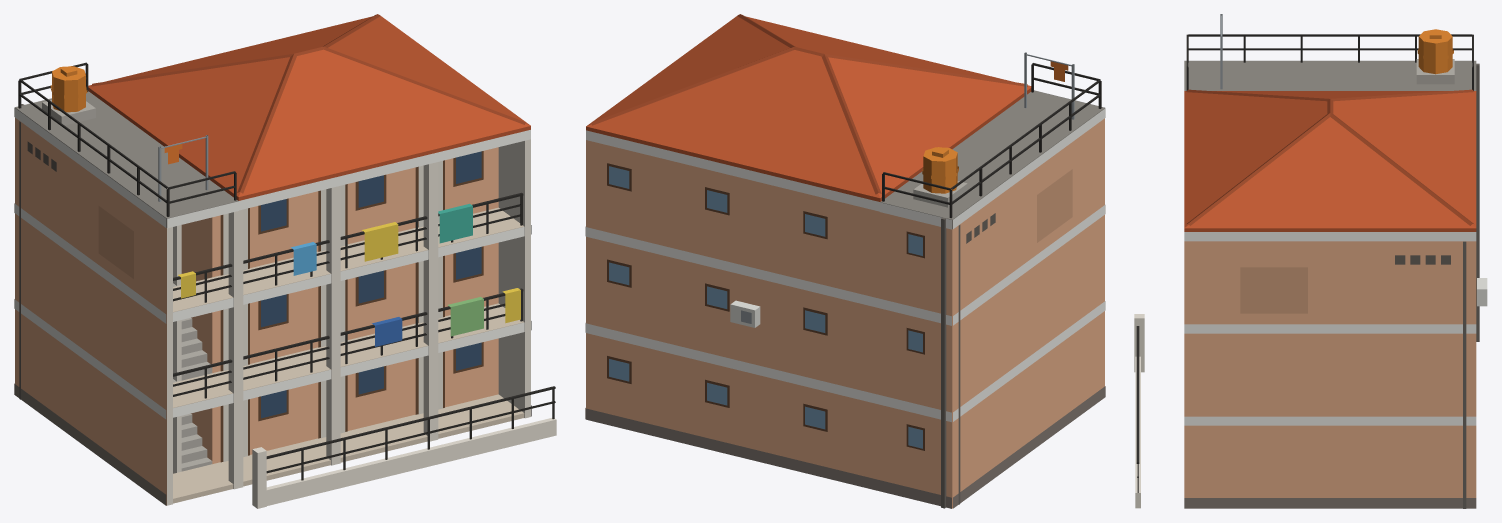
File: kos_02.glb
3 views of the same model, side by side, from view 1: azimuth 30°, elevation 25°; view 2: azimuth 150°, elevation 25°; view 3: azimuth 270°, elevation 25° (orthographic). The views are drawn at different scales.
Parts seen in each view (by area): view 1: kos_02; view 2: kos_02; view 3: kos_02.
Boxes of the visible parts, <box> form: kos_02: <box>14,14,556,508</box>; kos_02: <box>585,14,1105,508</box>; kos_02: <box>1134,14,1487,508</box>.
Bounding box in the file's own units: 12.01 × 10.87 × 10.42.
